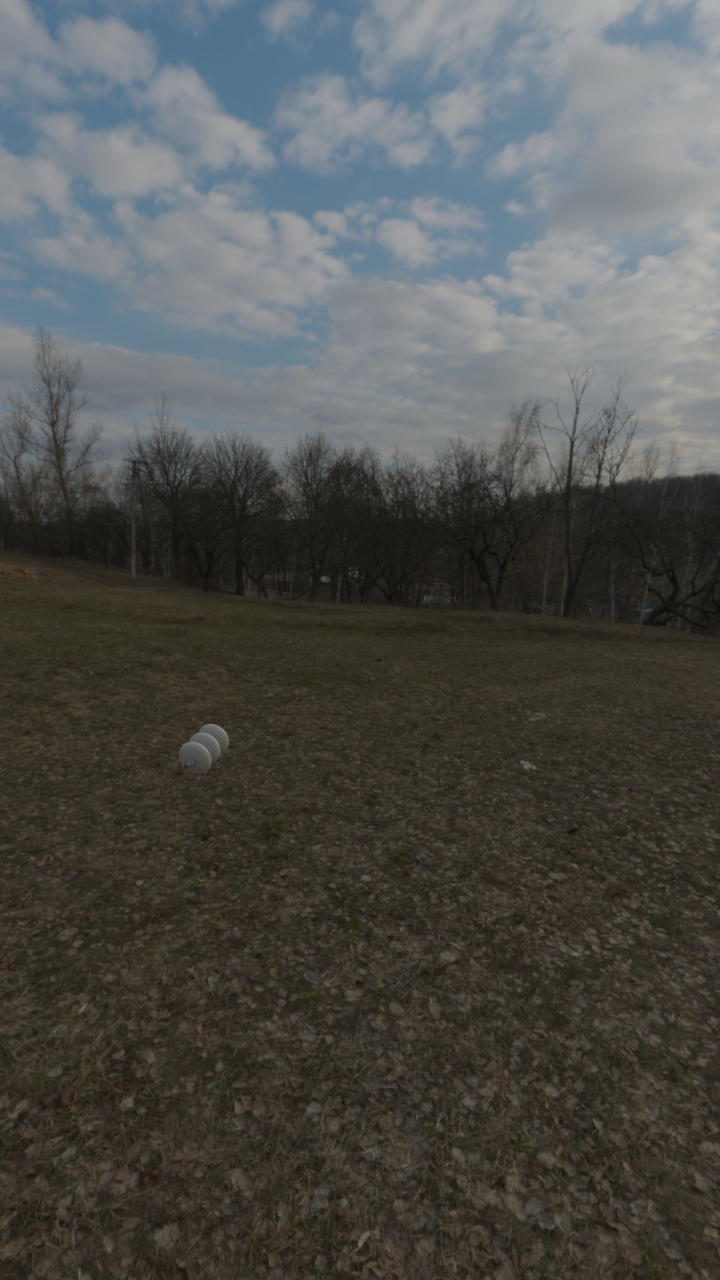ceramicinsulators: (179, 724, 229, 774)
